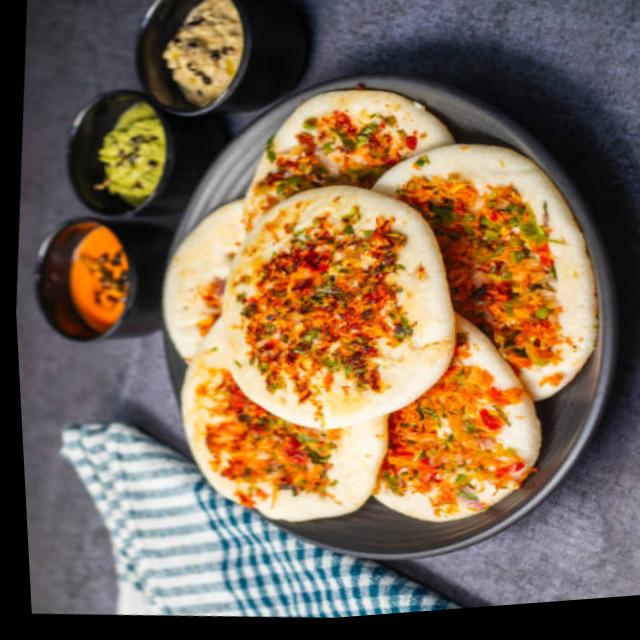DOSA: (156, 89, 599, 523)
GREEN CHUTNEY: (97, 99, 163, 206)
RED CHUTNEY: (69, 224, 127, 331)
WHITE CHUTNEY: (169, 0, 244, 108)
